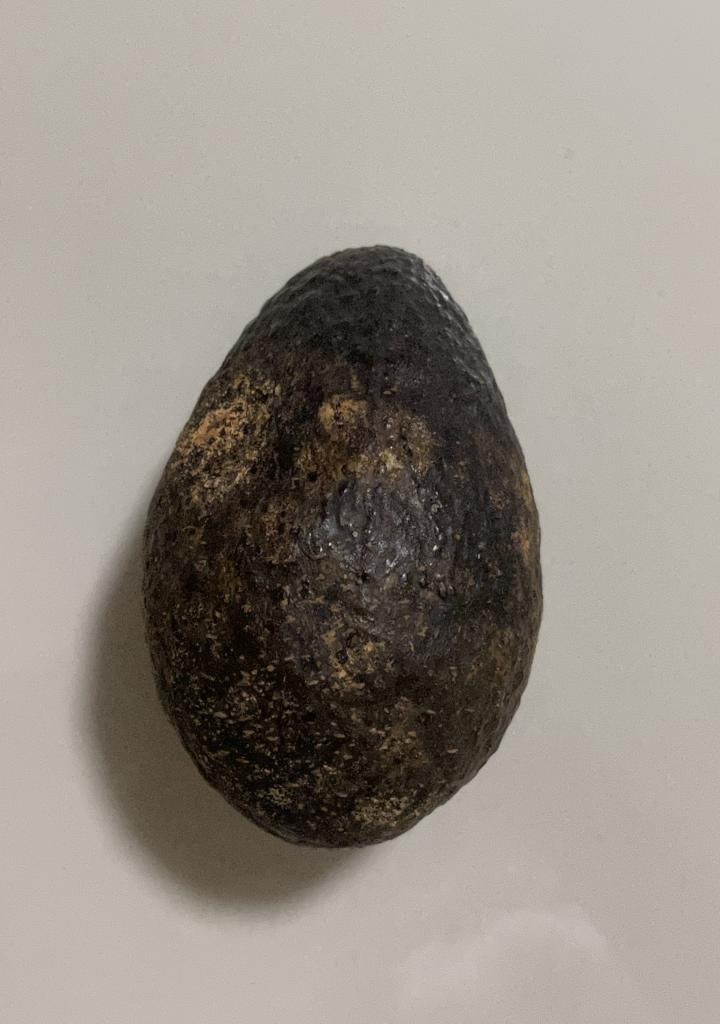Level3: (131, 226, 557, 858)
